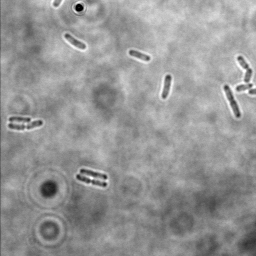Dividing: (221, 83, 242, 121), (74, 173, 109, 190), (7, 119, 44, 132)
Rod: (62, 32, 87, 52), (77, 166, 108, 181), (159, 73, 174, 100), (126, 48, 152, 63), (234, 81, 254, 93), (236, 54, 250, 71), (7, 115, 32, 124), (243, 68, 253, 83)
